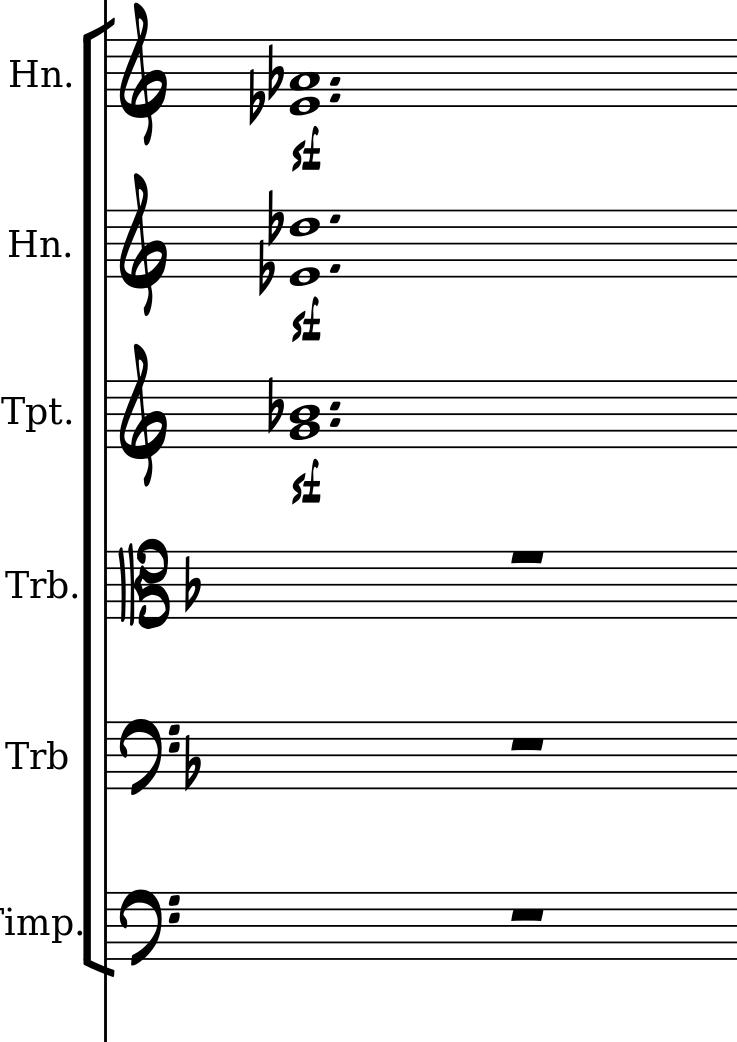1_0_3: (289, 38, 321, 119)
1_0_6: (287, 209, 319, 287)
1_2_4: (291, 380, 321, 452)
Bracke: (81, 17, 117, 979)
Cclef: (112, 536, 171, 635)
Fclef: (116, 885, 188, 975), (118, 715, 182, 794)
Flat: (265, 40, 288, 106), (182, 732, 206, 791), (182, 555, 204, 615), (267, 373, 285, 434), (246, 66, 265, 123), (267, 185, 285, 240), (258, 238, 274, 294)
Gclef: (116, 1, 173, 148), (120, 172, 171, 318), (118, 344, 170, 487)
Hn: (8, 227, 63, 260), (10, 58, 66, 90)
Rests1: (506, 902, 552, 930), (507, 734, 551, 758), (506, 546, 550, 567)
Single_barline: (98, 551, 116, 618), (99, 892, 116, 960), (99, 722, 116, 787), (100, 37, 116, 106), (99, 210, 115, 277), (99, 381, 115, 448)
Tpt: (1, 395, 64, 432)
Trb: (1, 737, 70, 777), (5, 565, 66, 609)
sf: (291, 294, 323, 344), (292, 126, 323, 173), (292, 460, 322, 505)
